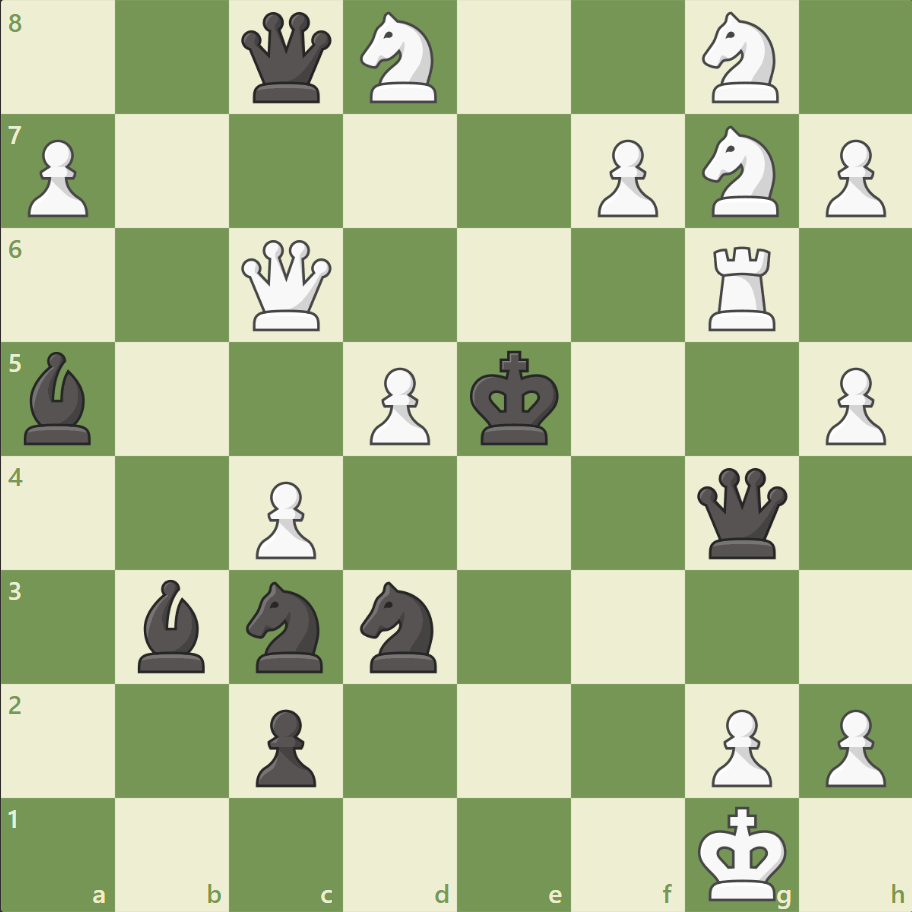K: (692, 798, 792, 906)
N: (351, 7, 449, 110), (692, 7, 789, 110), (692, 121, 789, 223)
P: (20, 132, 95, 223), (247, 473, 322, 564), (701, 700, 776, 791), (588, 132, 662, 223), (815, 132, 889, 223), (361, 359, 435, 450), (815, 359, 889, 450), (815, 700, 889, 791)
Q: (237, 236, 336, 335)
R: (700, 239, 783, 336)
b: (17, 347, 101, 449), (131, 574, 215, 676)
k: (465, 344, 565, 452)
n: (351, 575, 449, 677), (238, 575, 335, 677)
p: (247, 700, 322, 791)
q: (237, 9, 336, 108), (691, 463, 790, 562)
